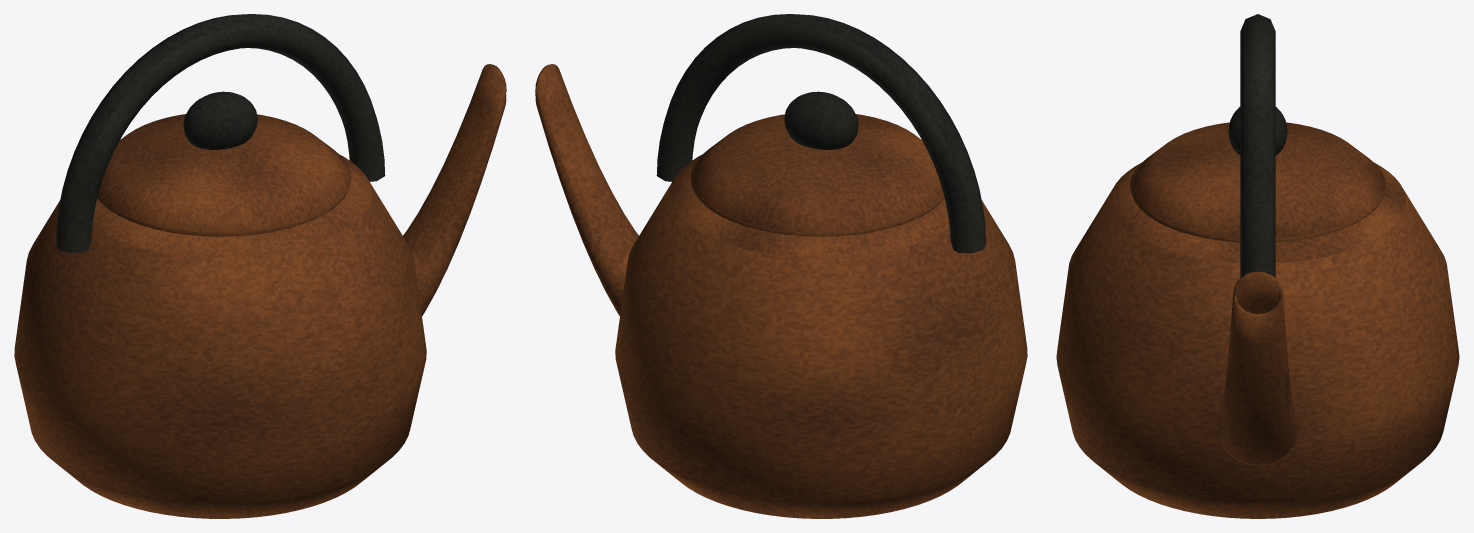
Rendered from Kettle.fbx.
3 views of the same model, side by side, from view 1: azimuth 30°, elevation 25°; view 2: azimuth 150°, elevation 25°; view 3: azimuth 270°, elevation 25° (orthographic). The views are drawn at different scales.
Parts seen in each view (by area): view 1: Kettle_Copper, Kettle_Iron; view 2: Kettle_Copper, Kettle_Iron; view 3: Kettle_Copper, Kettle_Iron.
Boxes of the visible parts, x1,y1,x2,y2 form: Kettle_Copper: (14, 64, 506, 518); Kettle_Iron: (56, 14, 385, 253); Kettle_Copper: (535, 64, 1027, 518); Kettle_Iron: (656, 14, 985, 253); Kettle_Copper: (1056, 122, 1459, 518); Kettle_Iron: (1228, 14, 1287, 277).
Bounding box in the file's own units: 43.28 × 39.5 × 34.
